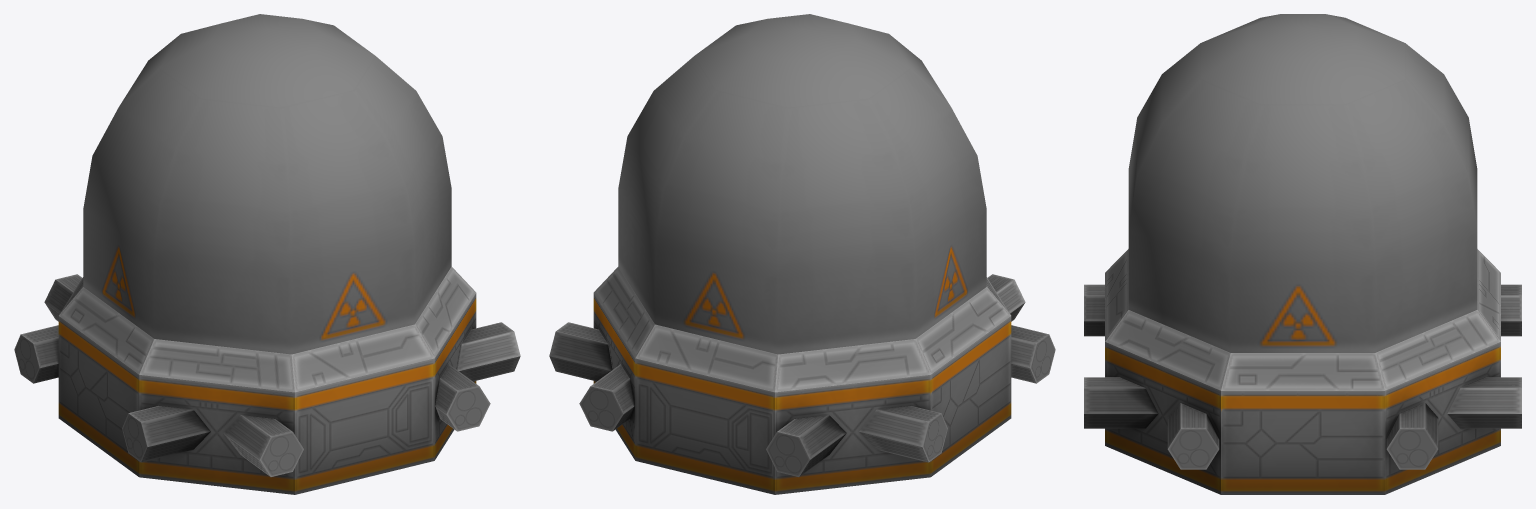
Rendered from NuclearReactor.dae.
The picture shows the model from 3 angles, left to right: view 1: azimuth 30°, elevation 25°; view 2: azimuth 150°, elevation 25°; view 3: azimuth 270°, elevation 25°; orthographic projection.
Visible parts, largest first — view 1: NuclearReactor; view 2: NuclearReactor; view 3: NuclearReactor.
Part boxes in pixels (box(x1,y1,x2,y2)): NuclearReactor: box(14, 14, 520, 494); NuclearReactor: box(549, 14, 1055, 494); NuclearReactor: box(1084, 14, 1521, 494).
Size of the model in its own units: 2 by 1.93 by 2.
